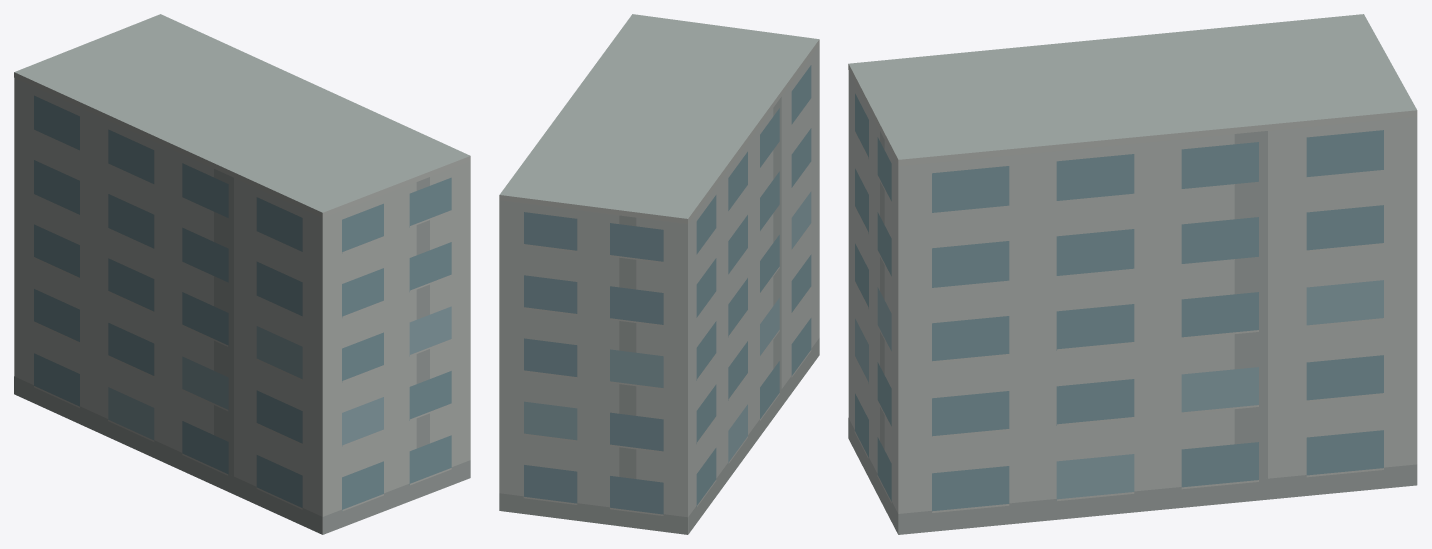
File: survey-upis-32809819.glb
3 renders of one model, left to right at view 1: azimuth 30°, elevation 25°; view 2: azimuth 150°, elevation 25°; view 3: azimuth 270°, elevation 25°, orthographic. The views are drawn at different scales.
Parts seen in each view (by area): view 1: survey-upis-32809819.tmp; view 2: survey-upis-32809819.tmp; view 3: survey-upis-32809819.tmp.
Part boxes in pixels (left/top/right/bottom): survey-upis-32809819.tmp: left=14, top=14, right=470, bottom=534; survey-upis-32809819.tmp: left=499, top=14, right=819, bottom=534; survey-upis-32809819.tmp: left=848, top=14, right=1417, bottom=534.
Size of the model in its own units: 12.1 by 14.5 by 19.94.
